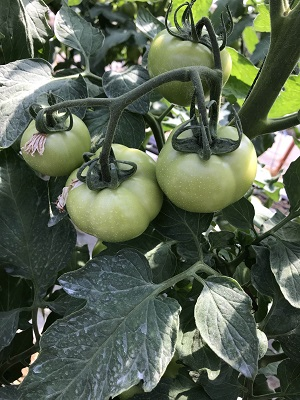immature-tomato: (65, 144, 162, 242), (157, 123, 258, 211), (150, 22, 233, 98), (20, 109, 92, 170)
